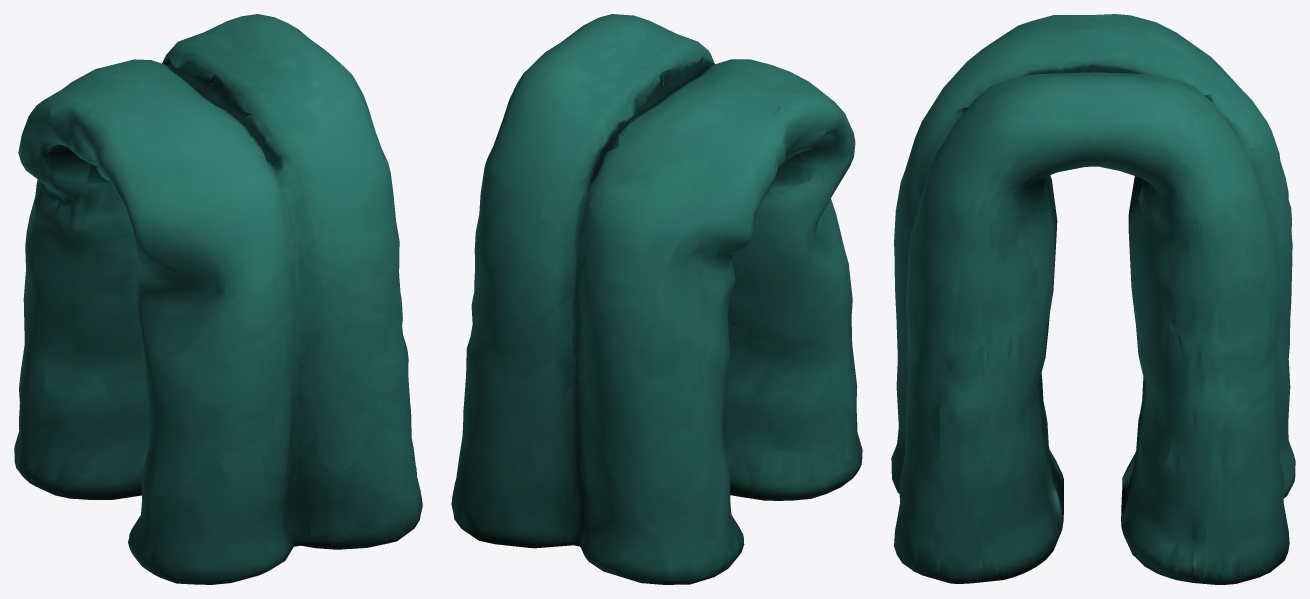
Rendered from 01_2_bud_rrs_stool.glb.
3 views of the same model, side by side, from view 1: azimuth 30°, elevation 25°; view 2: azimuth 150°, elevation 25°; view 3: azimuth 270°, elevation 25° (orthographic). The views are drawn at different scales.
Visible parts, largest first — view 1: tripo_material_2e37826a-9f09-40e4-9aca-c6835949edb5.003; view 2: tripo_material_2e37826a-9f09-40e4-9aca-c6835949edb5.003; view 3: tripo_material_2e37826a-9f09-40e4-9aca-c6835949edb5.003.
Part boxes in pixels (x1,y1,x2,y2): tripo_material_2e37826a-9f09-40e4-9aca-c6835949edb5.003: (14,14,422,584); tripo_material_2e37826a-9f09-40e4-9aca-c6835949edb5.003: (451,14,862,584); tripo_material_2e37826a-9f09-40e4-9aca-c6835949edb5.003: (891,14,1295,584).
Size of the model in its own units: 0.3005 by 0.4502 by 0.3495.
1 material, 1 textured.
